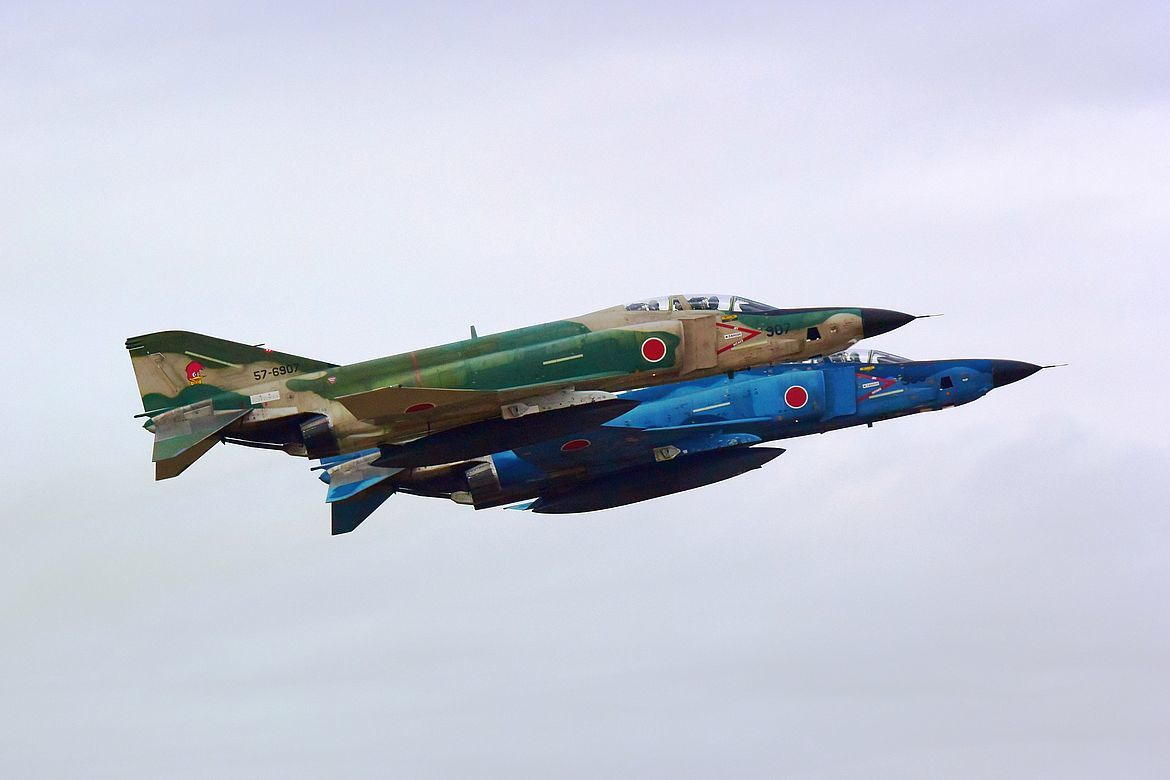F4: (124, 292, 944, 481), (310, 347, 1068, 536)
